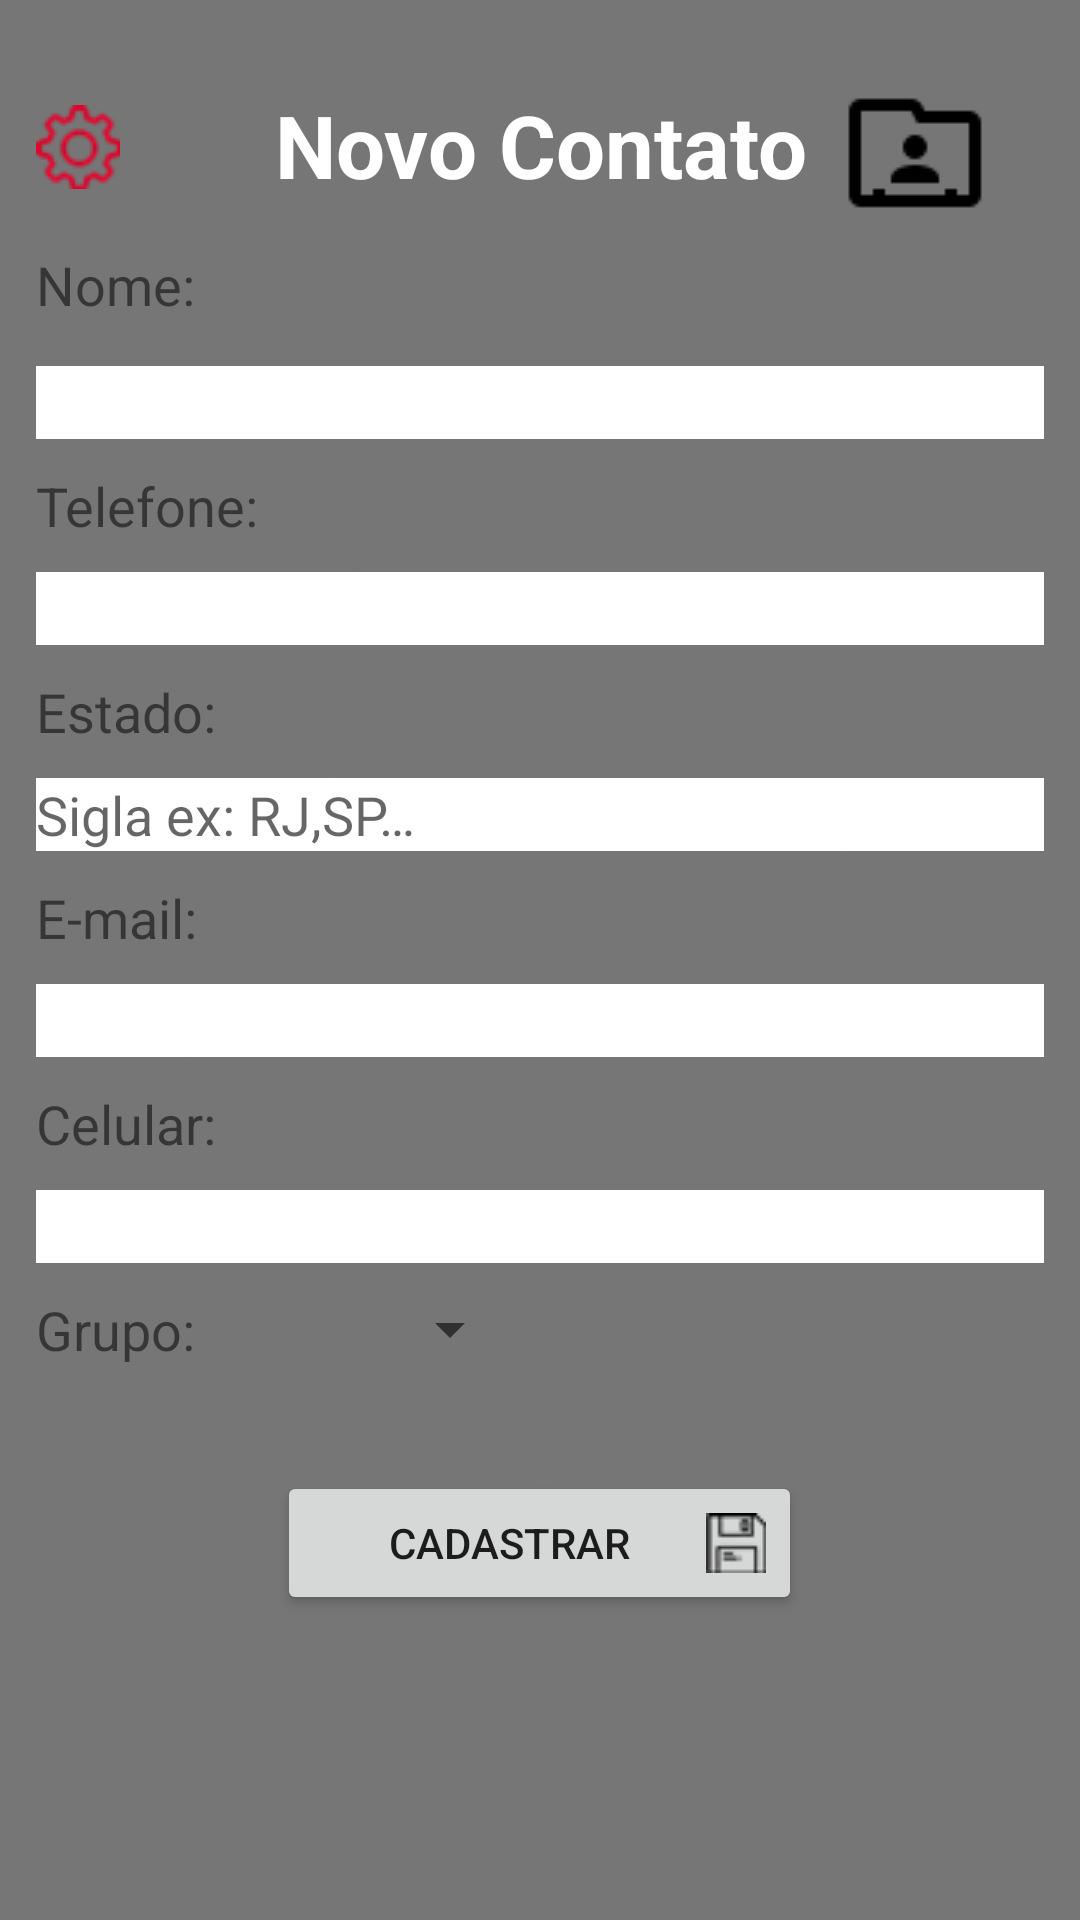

Icons on this 1080px x 1920px Android screen, each with the point to tap as [x,y]:
settings: [78,147]
